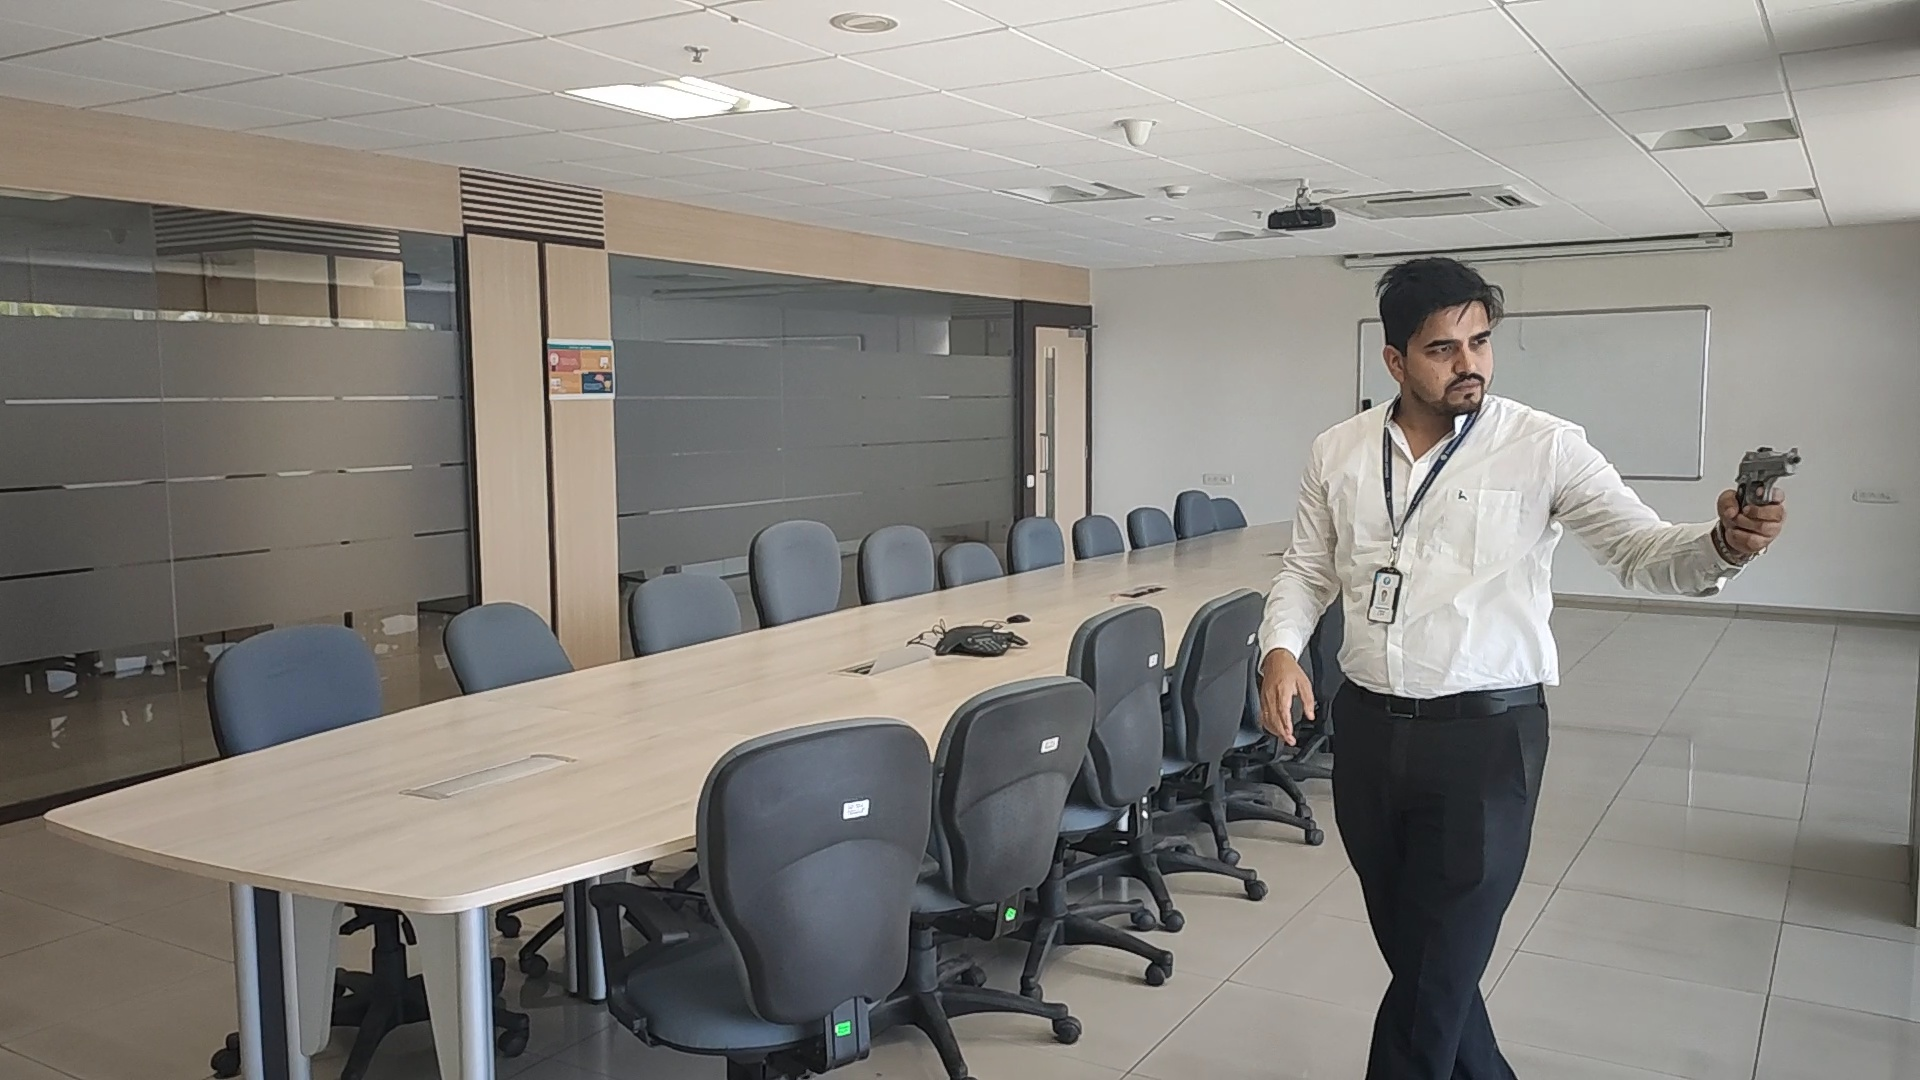gun: (1734, 444, 1804, 488)
